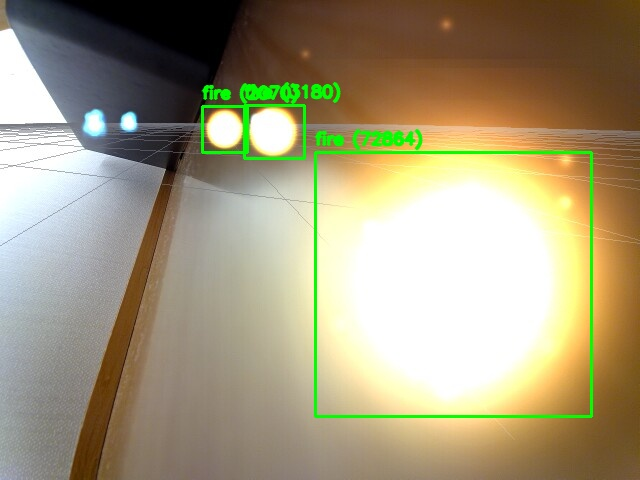fire: (315, 152, 591, 416), (244, 105, 304, 158), (202, 106, 247, 152)
